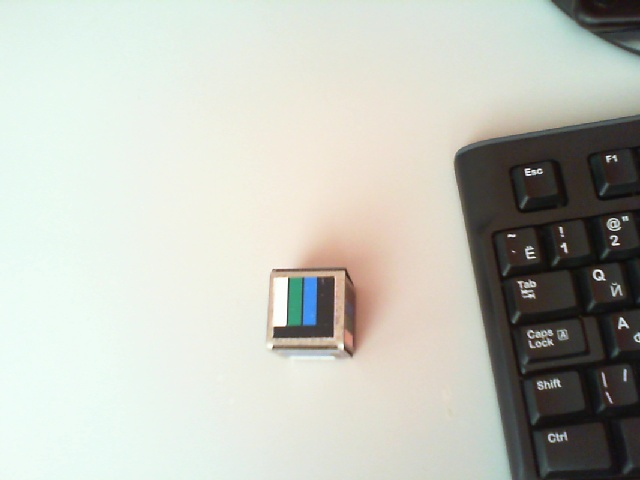square: (274, 277, 335, 338)
